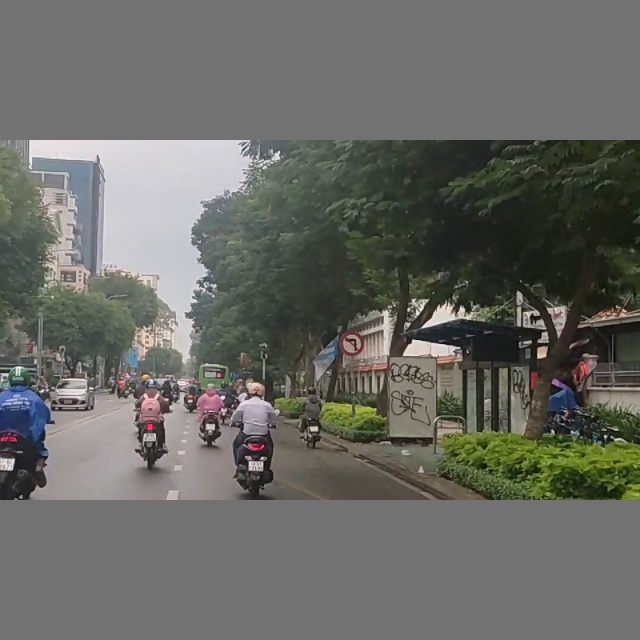P.123a: (340, 331, 363, 355)
